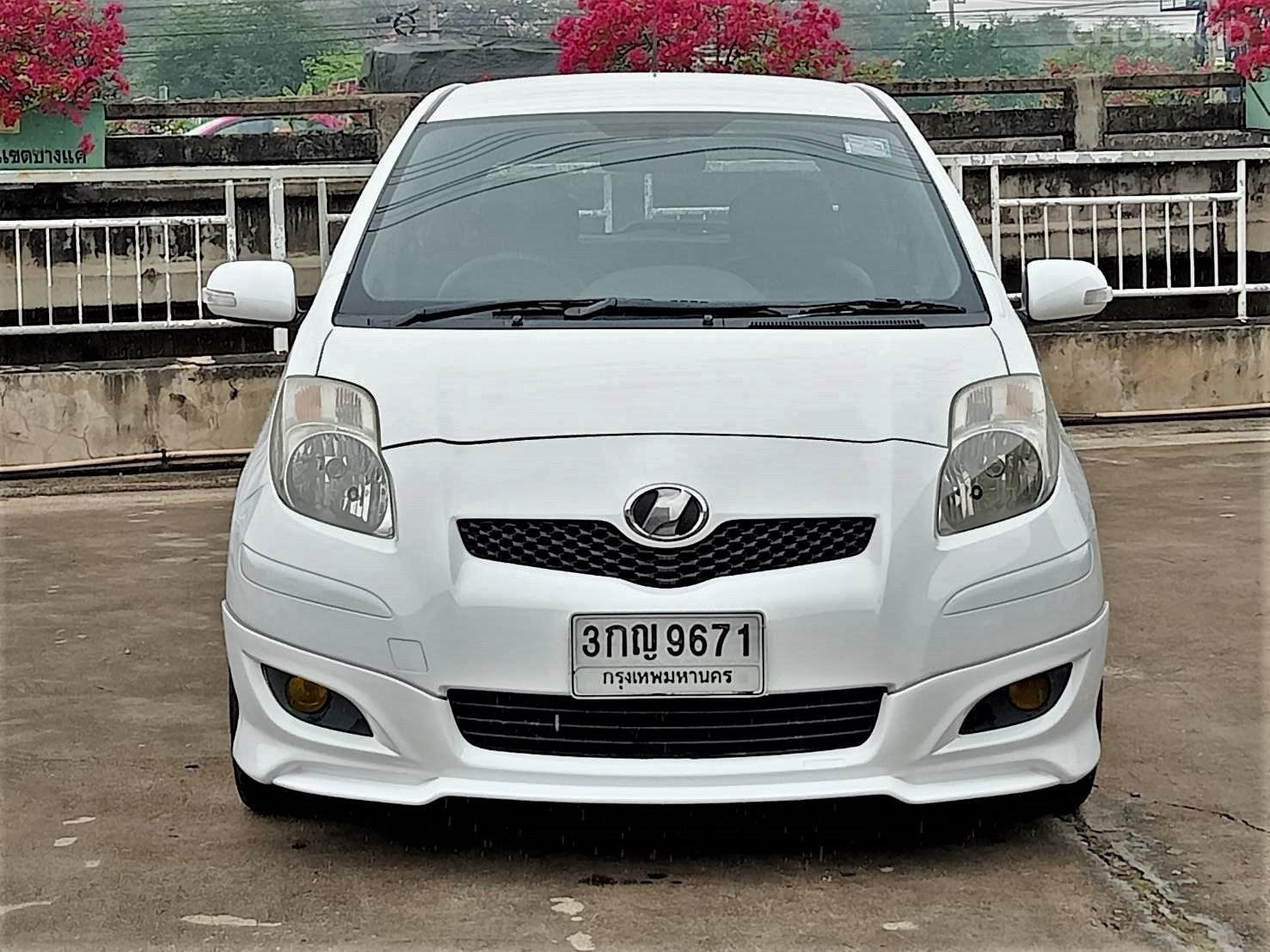license-plate: (563, 609, 770, 701)
